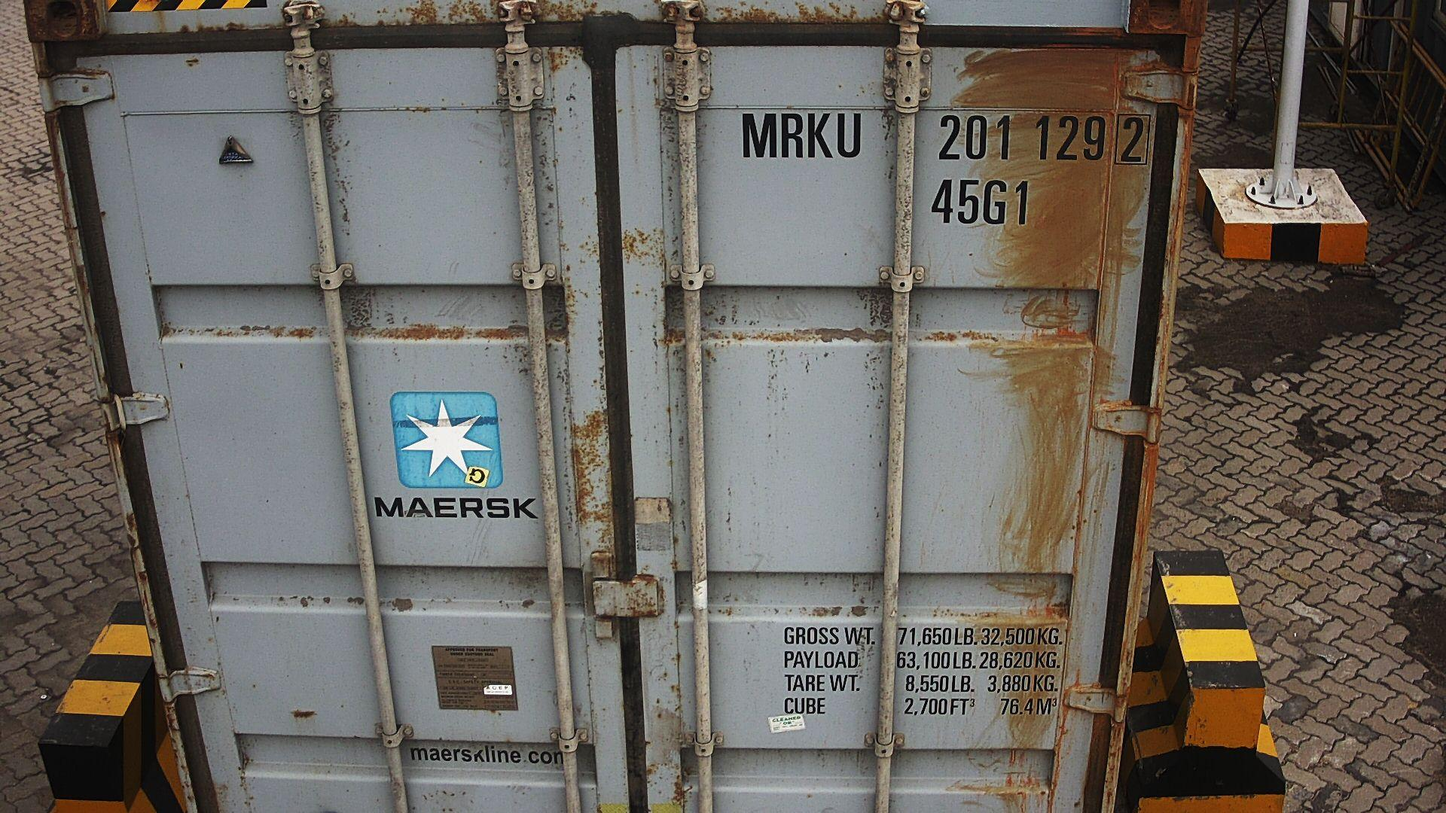container-numbers: (731, 108, 1161, 170), (929, 175, 1038, 228)
